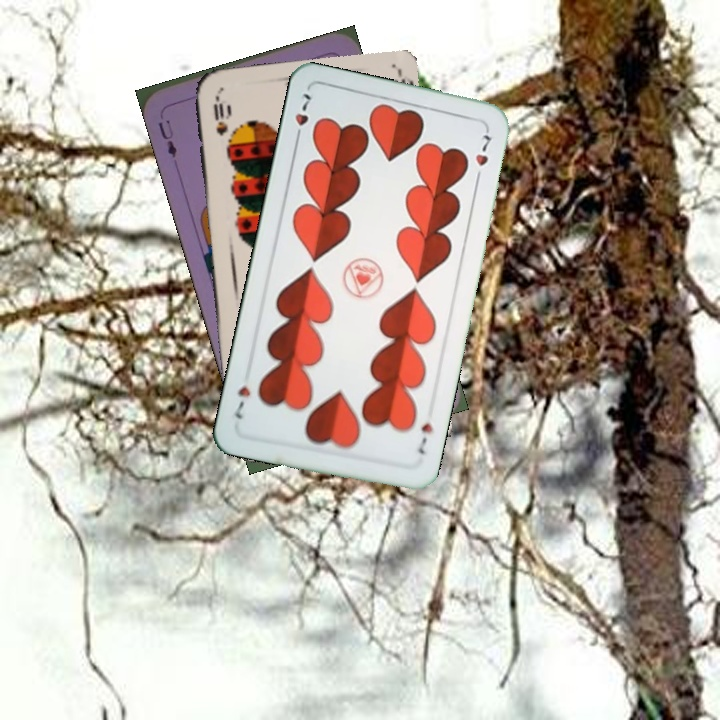EU: (154, 115, 180, 161)
H7: (290, 89, 314, 146), (413, 419, 436, 457)
S10: (209, 91, 230, 138)
